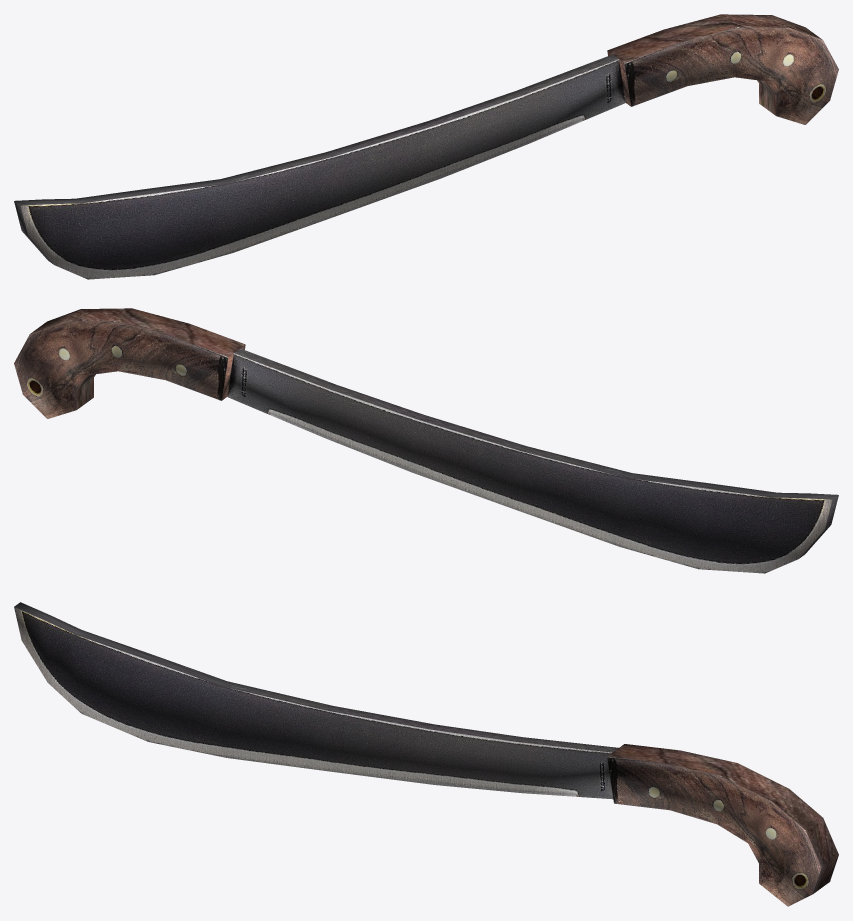
File: machete.FBX
The picture shows the model from 3 angles, top to bottom: view 1: azimuth 30°, elevation 25°; view 2: azimuth 150°, elevation 25°; view 3: azimuth 330°, elevation 25°; orthographic projection.
Visible parts, largest first — view 1: machete; view 2: machete; view 3: machete.
Boxes of the visible parts, x1,y1,x2,y2 form: machete: (14,14,838,279); machete: (14,308,838,573); machete: (14,602,838,906).
Bounding box in the file's own units: 71.75 × 9.66 × 2.65.
